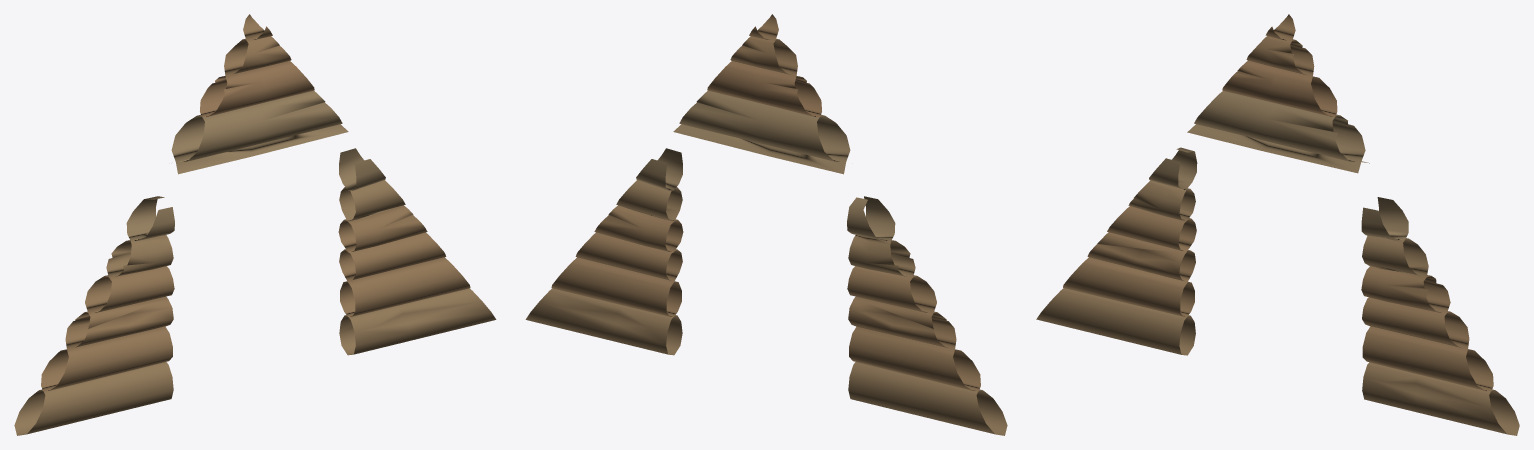
File: rpgpp_ag_roof_end_01_6x5_wall_door_01d.fbx
3 views of the same model, side by side, from view 1: azimuth 30°, elevation 25°; view 2: azimuth 150°, elevation 25°; view 3: azimuth 330°, elevation 25° (orthographic).
Parts seen in each view (by area): view 1: rpgpp_ag_roof_end_01_6x5_wall_door_01d; view 2: rpgpp_ag_roof_end_01_6x5_wall_door_01d; view 3: rpgpp_ag_roof_end_01_6x5_wall_door_01d.
Part boxes in pixels (x1=…): rpgpp_ag_roof_end_01_6x5_wall_door_01d: x1=14, y1=14, x2=496, y2=435; rpgpp_ag_roof_end_01_6x5_wall_door_01d: x1=525, y1=14, x2=1007, y2=435; rpgpp_ag_roof_end_01_6x5_wall_door_01d: x1=1036, y1=14, x2=1519, y2=435.
Size of the model in its own units: 6.36 by 4.55 by 0.5143.
